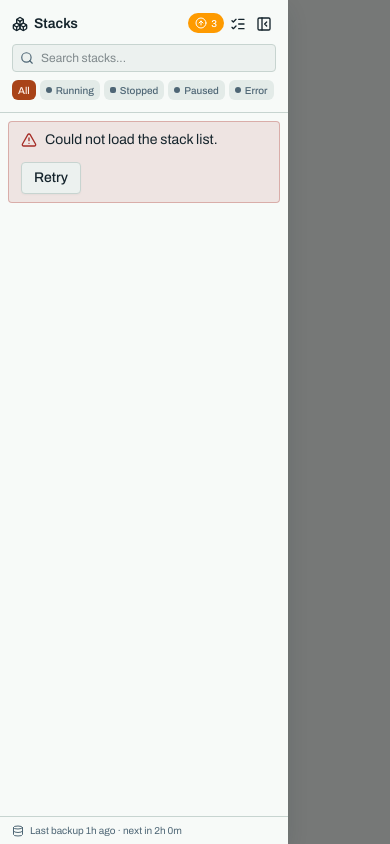
it: Sidebar — failed stack list › first load fails: an error with Retry, NOT "No stacks found" or a count of 0
expect the text "Could not load the stack list." is shown: met, box [45, 130, 218, 150]
Click the button "Retry": x=51, y=178 [21, 162, 81, 194]
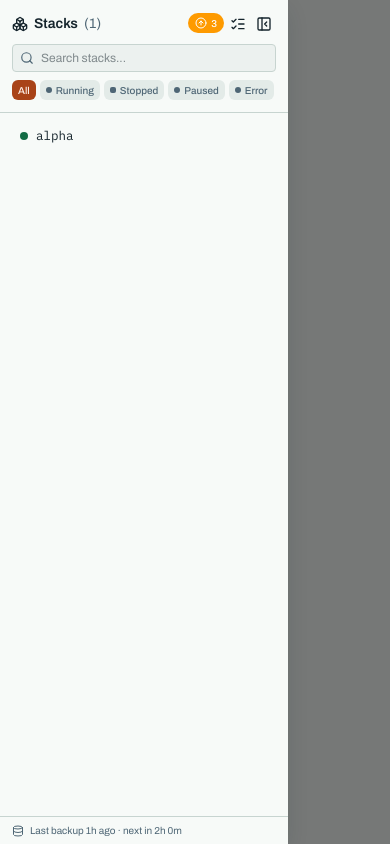
expect the text "alpha" is shown: met, box [36, 127, 74, 143]
expect the text "Could not load the stack list." is gone: met
